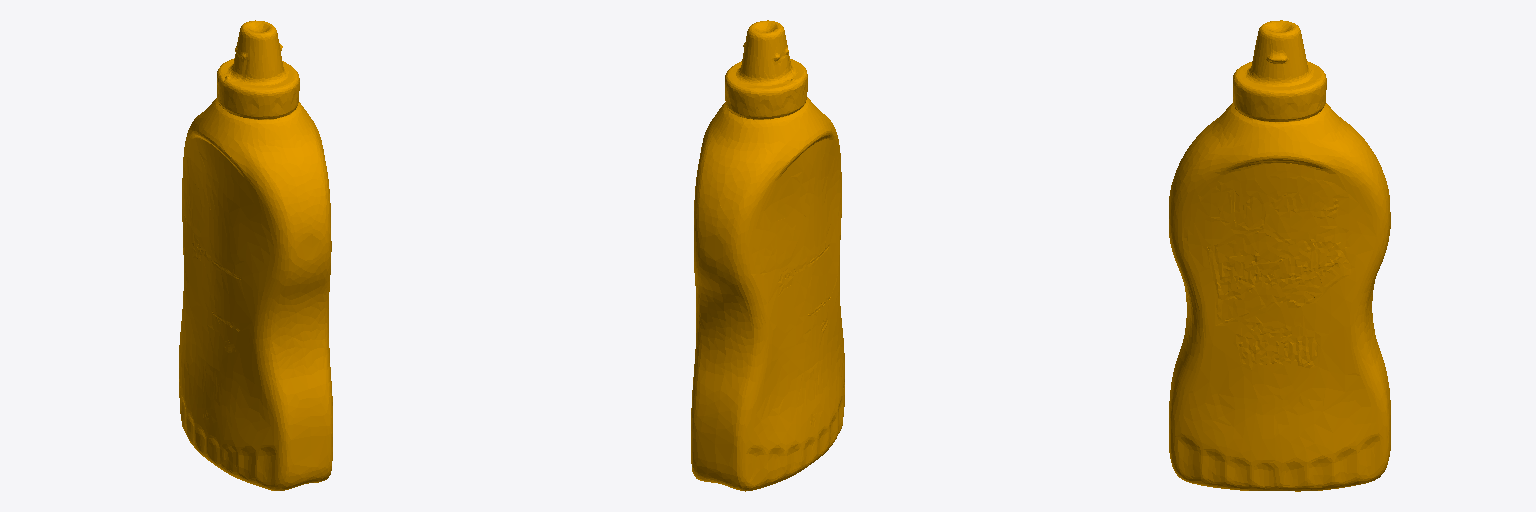
The robot description file, URDF, robot "mustard_bottle":
<?xml version="1.0"?>
<robot name="mustard_bottle">
    <link name="mustard_bottle">
        <contact>
            <friction_anchor/>
            <lateral_friction value="0.4"/>
            <rolling_friction value="0.1"/>
            <spinning_friction value="0.1"/>
        </contact>

        <inertial>
            <origin xyz="0 0 0" rpy="0 0 0"/>
            <mass value="0.25"/>
            <inertia ixx="1" ixy="0"  ixz="0" iyy="1" iyz="0" izz="1" />
        </inertial>

        <visual>
            <origin xyz="0 0 0" rpy="0 0 0" />
            <geometry>
                <mesh filename="package://bopt_gmm/objects/mustard_bottle/mustard_bottle.obj" scale="0.8 0.9 1.0"/>
            </geometry>
        </visual>

        <collision>
            <origin xyz="0 0 0" rpy="0 0 0" />
            <geometry>
                <mesh filename="package://bopt_gmm/objects/mustard_bottle/mustard_bottle.obj" scale="0.8 0.9 1.0"/>
            </geometry>
        </collision>
    </link>
</robot>

--- What the picture shows (computed from the rendered views, not written in the file) ---
The picture shows the robot from 3 angles, left to right: view 1: azimuth 30°, elevation 25°; view 2: azimuth 150°, elevation 25°; view 3: azimuth 270°, elevation 25°; orthographic projection.
Model mustard_bottle with 1 links and 0 joints (none), rooted at mustard_bottle, posed every joint at zero.
Visible links, largest first — view 1: mustard_bottle; view 2: mustard_bottle; view 3: mustard_bottle.
Link boxes in pixels (<box>): mustard_bottle: <box>179,20,332,490</box>; mustard_bottle: <box>691,20,844,491</box>; mustard_bottle: <box>1169,20,1390,491</box>.
Bounding box of the posed robot: 0.0466 × 0.0864 × 0.1913 m (x, y, z).
1 mesh visuals loaded from 1 distinct referenced files (1 OBJ).